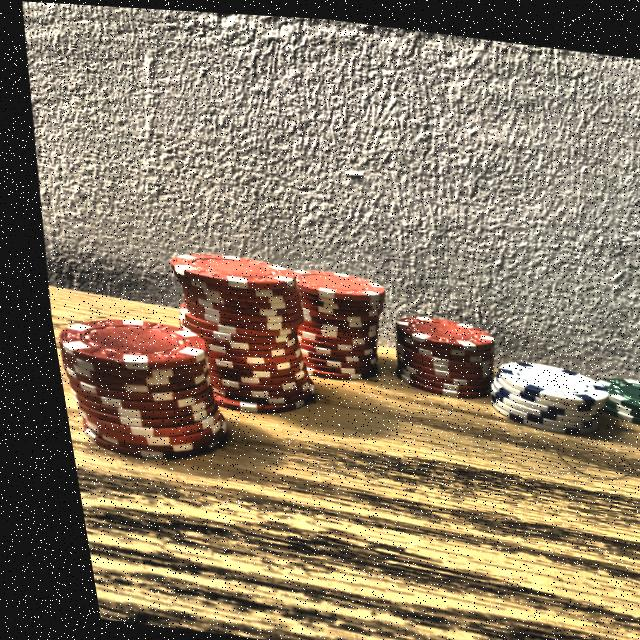Chip: (136, 236, 334, 430), (39, 283, 232, 478), (250, 256, 392, 395), (456, 340, 623, 440), (366, 294, 499, 401), (572, 361, 640, 434)
